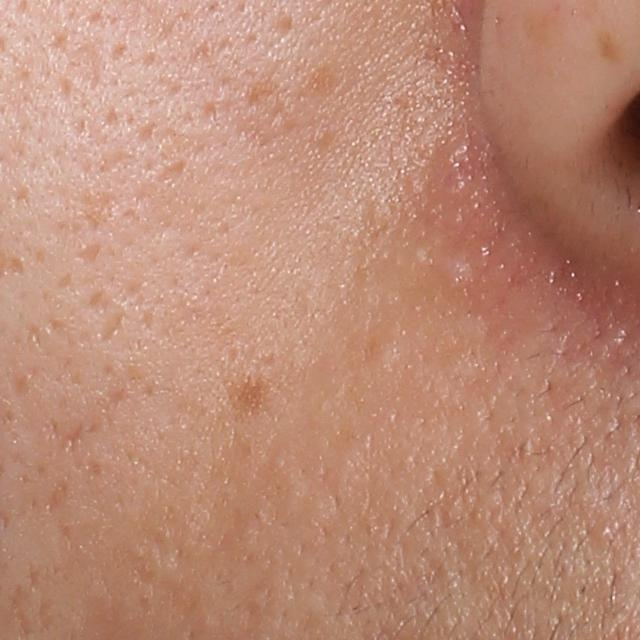atrophic_scar: (58, 38, 109, 96), (54, 421, 87, 455), (152, 159, 190, 187), (98, 309, 128, 344), (73, 240, 101, 260)
melasma: (590, 24, 636, 62)
